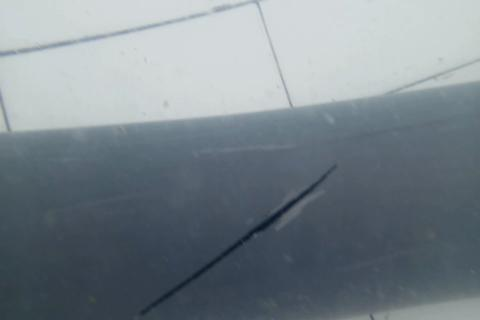keretakan: (141, 165, 336, 316)
